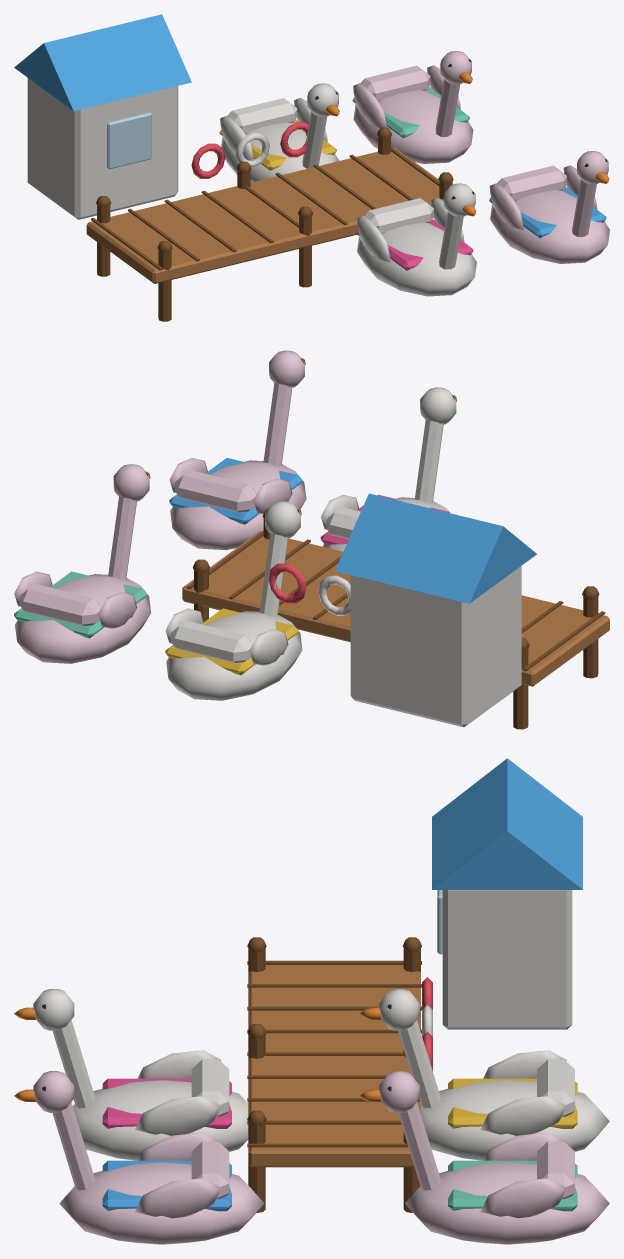
File: park-boats.glb
3 renders of one model, top to bottom at view 1: azimuth 30°, elevation 25°; view 2: azimuth 150°, elevation 25°; view 3: azimuth 270°, elevation 25°, orthographic. The views are drawn at different scales.
Visible parts, largest first — view 1: pk_boats_mesh, pk_boats_boat0_mesh, pk_boats_boat1_mesh, pk_boats_boat3_mesh, pk_boats_boat2_mesh; view 2: pk_boats_mesh, pk_boats_boat3_mesh, pk_boats_boat2_mesh, pk_boats_boat1_mesh, pk_boats_boat0_mesh; view 3: pk_boats_mesh, pk_boats_boat1_mesh, pk_boats_boat3_mesh, pk_boats_boat2_mesh, pk_boats_boat0_mesh.
Boxes of the visible parts, x1=… form: pk_boats_mesh: x1=14, y1=14, x2=453, y2=321; pk_boats_boat0_mesh: x1=356, y1=183, x2=476, y2=296; pk_boats_boat1_mesh: x1=489, y1=151, x2=609, y2=263; pk_boats_boat3_mesh: x1=352, y1=51, x2=473, y2=163; pk_boats_boat2_mesh: x1=219, y1=83, x2=339, y2=182; pk_boats_mesh: x1=182, y1=493, x2=609, y2=729; pk_boats_boat3_mesh: x1=14, y1=464, x2=150, y2=663; pk_boats_boat2_mesh: x1=165, y1=501, x2=302, y2=700; pk_boats_boat1_mesh: x1=169, y1=350, x2=306, y2=550; pk_boats_boat0_mesh: x1=320, y1=387, x2=456, y2=551; pk_boats_mesh: x1=247, y1=758, x2=582, y2=1212; pk_boats_boat1_mesh: x1=14, y1=1071, x2=264, y2=1244; pk_boats_boat3_mesh: x1=360, y1=1071, x2=609, y2=1244; pk_boats_boat2_mesh: x1=360, y1=989, x2=609, y2=1160; pk_boats_boat0_mesh: x1=14, y1=989, x2=248, y2=1160.
Size of the model in its own units: 5.62 by 2.7 by 5.52.
